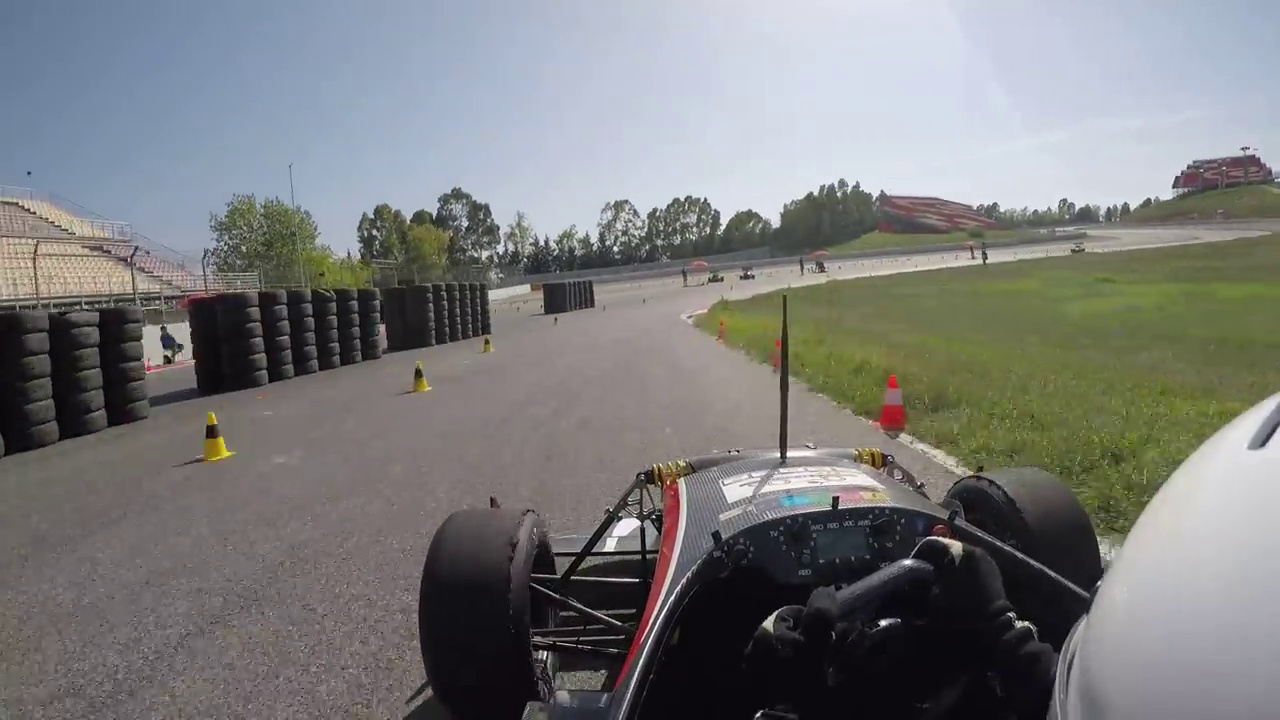Cone: (874, 374, 911, 432), (194, 409, 232, 461), (407, 358, 432, 397)
